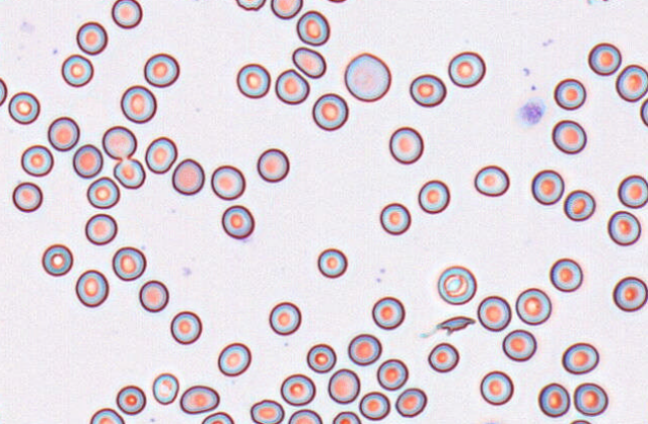RBC: (344, 52, 391, 102), (437, 265, 476, 305), (311, 92, 348, 131), (120, 84, 156, 123), (515, 287, 551, 325), (447, 51, 485, 87), (388, 126, 423, 164), (612, 276, 648, 312), (274, 68, 309, 104), (210, 164, 245, 200), (143, 52, 179, 87), (409, 73, 446, 107), (615, 64, 648, 102), (144, 136, 177, 174), (75, 269, 108, 307), (102, 125, 137, 160), (111, 246, 146, 281), (551, 119, 586, 154), (296, 10, 330, 46), (477, 295, 511, 331), (607, 210, 641, 246), (171, 158, 204, 195), (561, 342, 599, 374), (179, 384, 219, 414), (573, 382, 608, 416), (479, 370, 513, 405), (236, 63, 270, 98), (549, 257, 583, 292), (327, 368, 360, 404), (531, 169, 564, 205), (371, 296, 405, 330), (587, 42, 621, 76), (217, 342, 251, 376), (537, 382, 570, 417), (280, 373, 315, 406), (256, 147, 289, 182), (417, 179, 450, 214), (221, 204, 254, 239), (86, 176, 120, 209), (268, 301, 301, 335), (291, 46, 326, 78), (47, 116, 79, 151), (474, 164, 509, 196), (502, 329, 536, 361), (347, 333, 381, 365), (170, 310, 202, 344), (61, 53, 93, 87), (72, 143, 103, 178), (84, 213, 117, 245), (553, 78, 586, 110), (20, 144, 53, 176), (8, 91, 40, 124), (379, 202, 411, 235), (41, 243, 73, 276), (617, 174, 648, 208), (76, 21, 107, 55), (113, 157, 145, 189), (376, 358, 408, 390), (563, 189, 595, 221), (138, 279, 169, 312), (115, 384, 146, 415), (395, 387, 427, 417), (427, 342, 459, 372), (12, 181, 42, 212), (317, 247, 347, 278), (358, 391, 390, 420), (306, 343, 336, 373), (152, 372, 179, 405), (111, 0, 142, 28), (249, 399, 284, 423), (270, 0, 302, 19), (89, 407, 124, 423), (287, 408, 322, 423), (200, 411, 234, 423), (331, 410, 361, 423), (235, 0, 266, 11), (640, 96, 648, 127), (0, 76, 7, 106), (476, 417, 502, 424), (568, 418, 592, 424), (0, 34, 3, 63), (321, 0, 350, 3), (176, 0, 211, 1)
Schistocyte: (438, 316, 476, 335)
